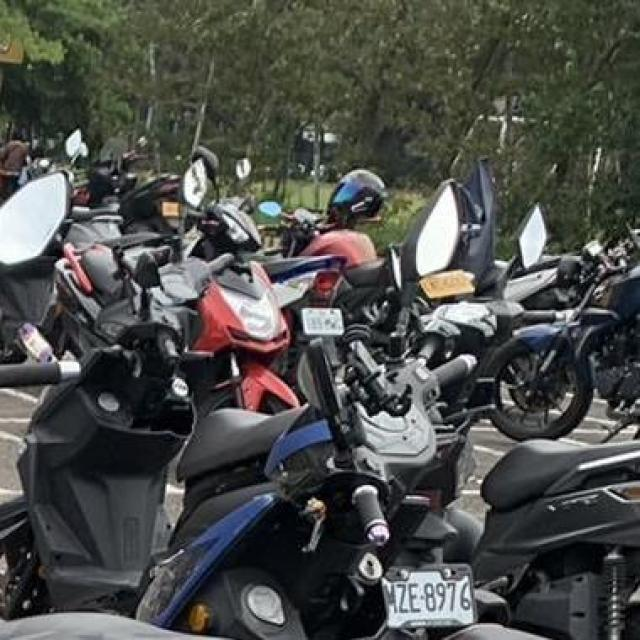W: (378, 568, 478, 634), (302, 304, 346, 341)
Y: (418, 270, 482, 301)
